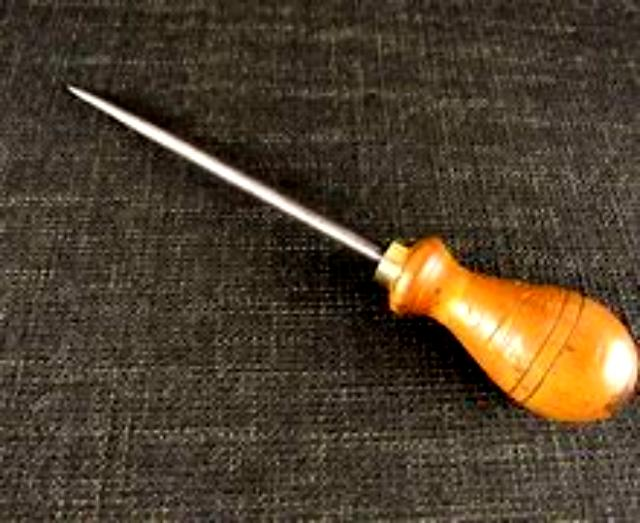ice pick: (76, 79, 636, 439)
